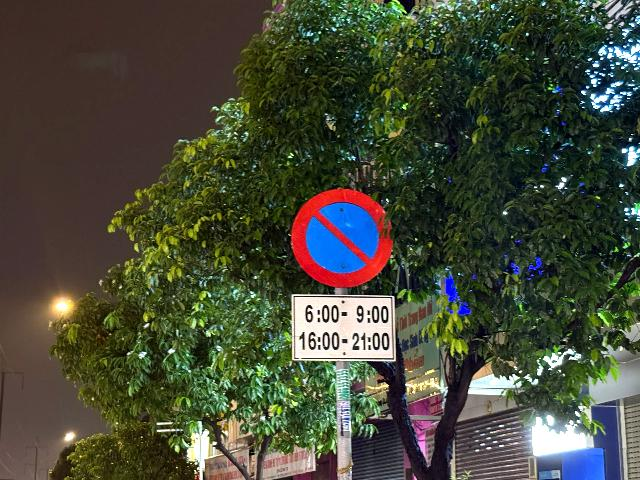cam-do-xe: (289, 187, 396, 288)
